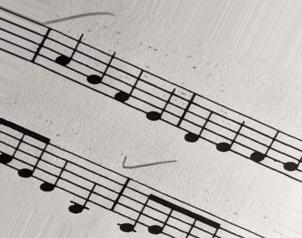note: (51, 29, 85, 85), (84, 44, 116, 102), (247, 118, 280, 174), (145, 71, 177, 127), (113, 58, 143, 114), (215, 104, 246, 158), (37, 139, 68, 193), (181, 90, 210, 145)
